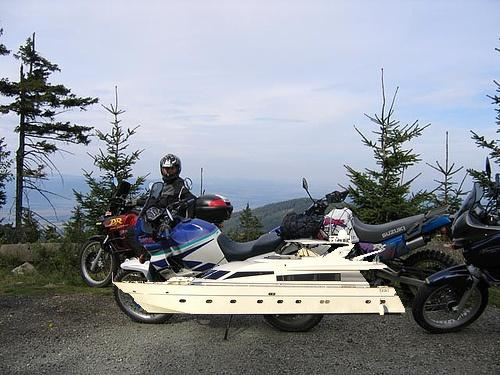tampered: (113, 215, 405, 315)
